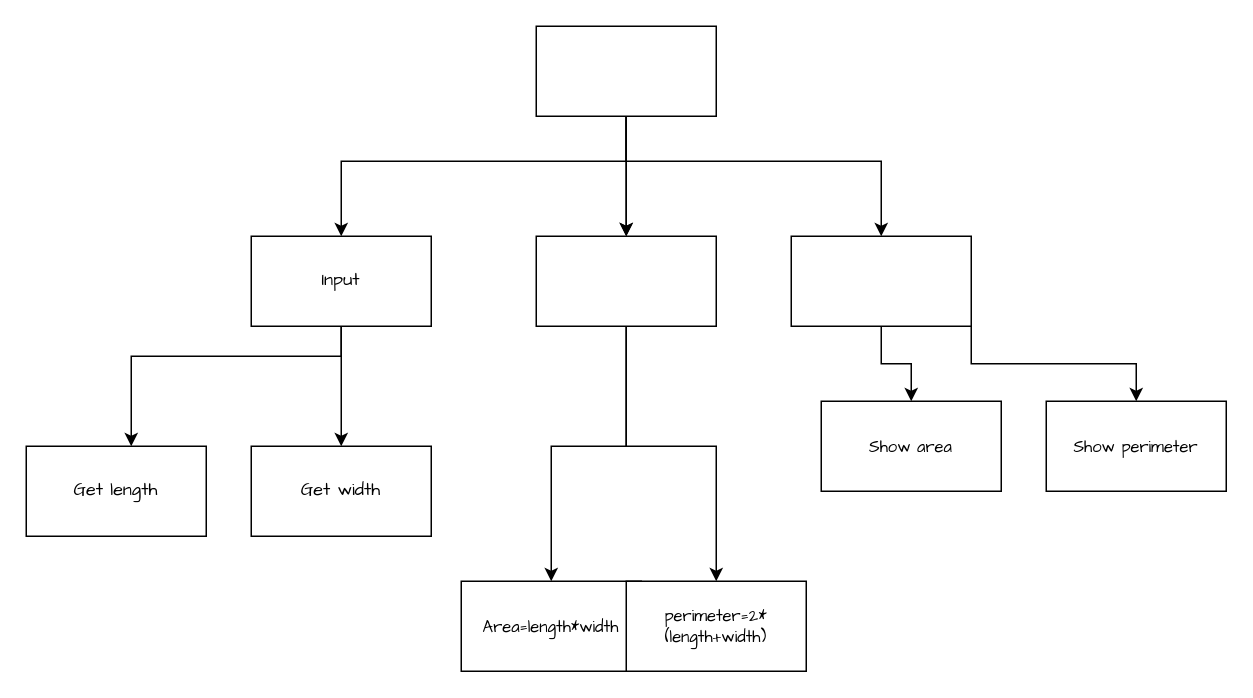
Some shapes in this 1253 by 698 pixel diagram are drawn without their labels. The shapes that lost their labels are listed below. From the top down, each one's centre as x and y in pixels, then its label:
At point 625,70: "Area and Perimeter".
At point 625,280: "Process".
At point 880,280: "Output".
